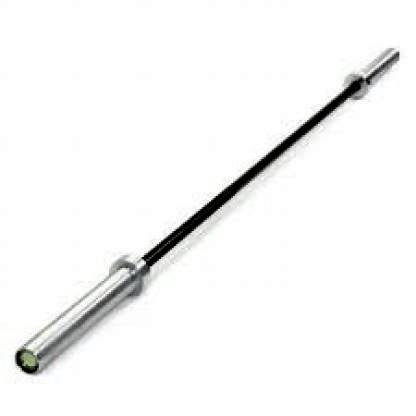Barbell: (12, 339, 49, 381)
